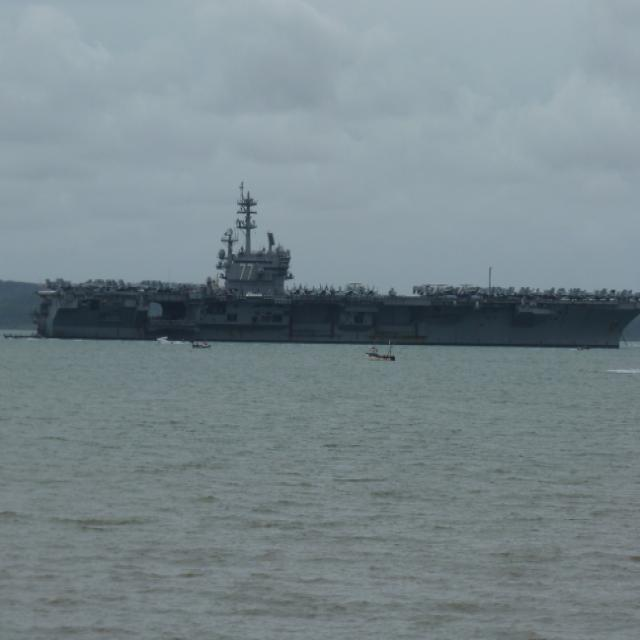Portanaves: (27, 185, 640, 352)
